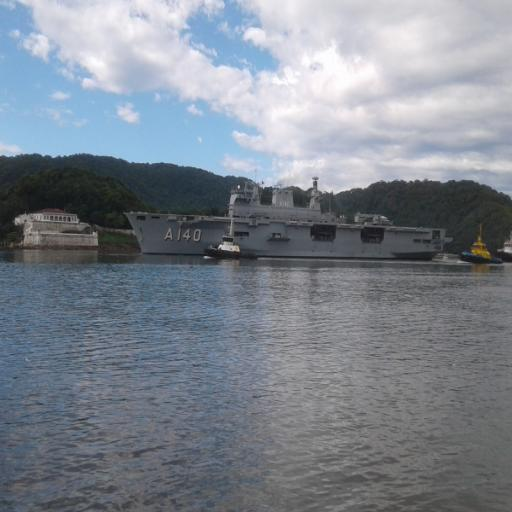Portanaves: (122, 171, 455, 262)
